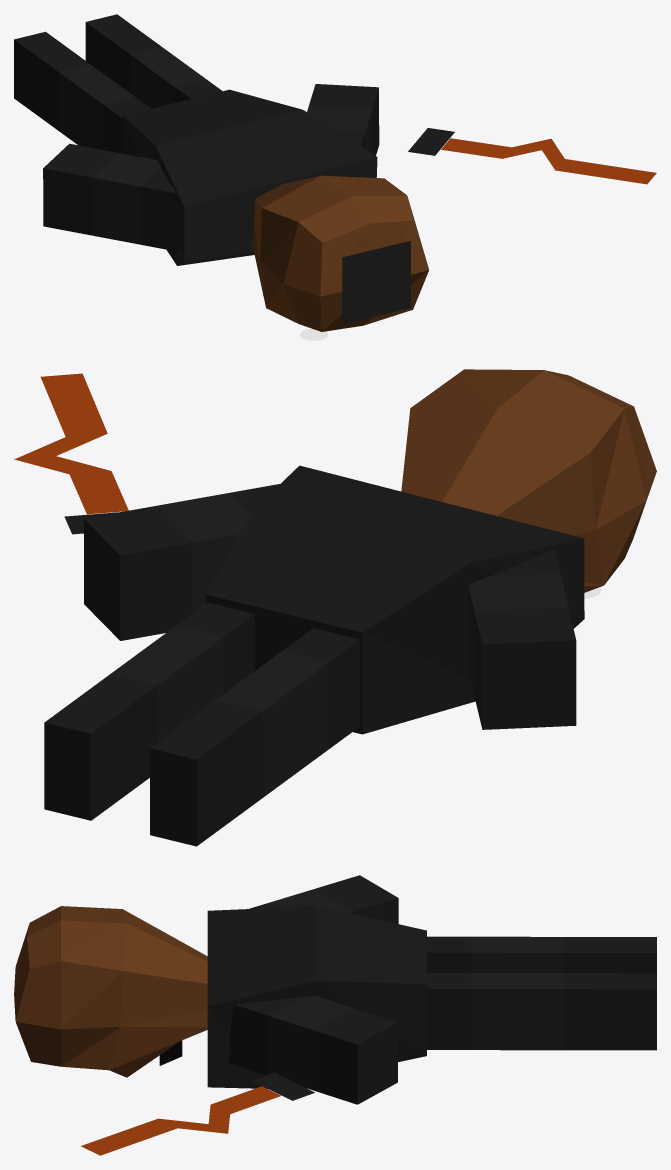
Rendered from swordsman3d.obj.
The picture shows the model from 3 angles, top to bottom: view 1: azimuth 30°, elevation 25°; view 2: azimuth 150°, elevation 25°; view 3: azimuth 270°, elevation 25°; orthographic projection. The views are drawn at different scales.
Parts seen in each view (by area): view 1: Cube.001, Cube, Cube.003, Cube.004, Cube.005, Plane.004_Plane.001, Cube.002, Plane.003_Plane.004, Plane.002_Plane.003; view 2: Cube.001, Cube, Cube.004, Cube.005, Cube.002, Cube.003, Plane.003_Plane.004; view 3: Cube, Cube.001, Cube.005, Cube.002, Cube.004, Cube.003, Plane.003_Plane.004, Plane.002_Plane.003.
Part boxes in pixels (box(x1,y1,x2,y2)): Cube.001: box(123, 89, 377, 265); Cube: box(252, 175, 428, 331); Cube.003: box(43, 143, 179, 251); Cube.004: box(14, 31, 150, 153); Cube.005: box(85, 14, 222, 108); Plane.004_Plane.001: box(342, 240, 410, 324); Cube.002: box(307, 84, 379, 155); Plane.003_Plane.004: box(441, 138, 656, 184); Plane.002_Plane.003: box(408, 128, 454, 155); Cube.001: box(205, 465, 584, 734); Cube: box(401, 369, 656, 592); Cube.004: box(150, 628, 360, 846); Cube.005: box(44, 602, 254, 820); Cube.002: box(84, 484, 279, 640); Cube.003: box(467, 549, 576, 729); Plane.003_Plane.004: box(14, 373, 128, 514); Cube: box(14, 906, 207, 1077); Cube.001: box(207, 906, 426, 1088); Cube.005: box(427, 973, 656, 1050); Cube.002: box(229, 996, 397, 1104); Cube.004: box(427, 936, 656, 973); Cube.003: box(249, 875, 398, 923); Plane.003_Plane.004: box(81, 1086, 280, 1155); Plane.002_Plane.003: box(252, 1072, 314, 1100).
Bounding box in the file's own units: 5.33 × 1.58 × 5.86.
